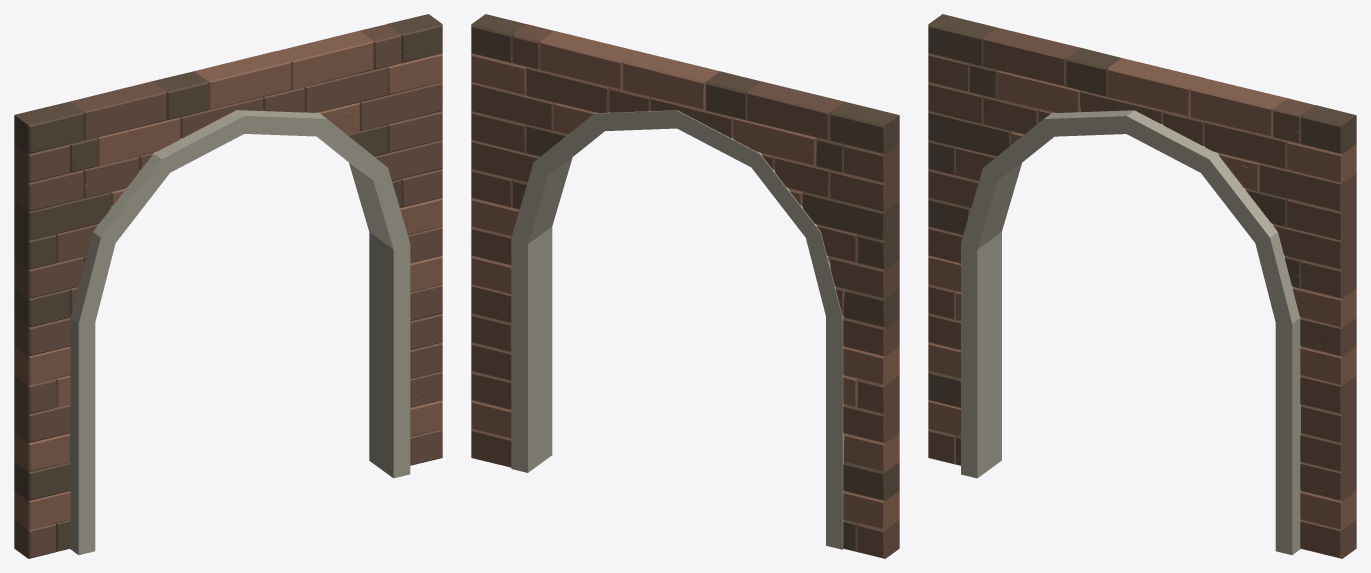
File: victorian_wall_brick_1_arch.fbx
The picture shows the model from 3 angles, left to right: view 1: azimuth 30°, elevation 25°; view 2: azimuth 150°, elevation 25°; view 3: azimuth 330°, elevation 25°; orthographic projection.
Visible parts, largest first — view 1: Cube.262; view 2: Cube.262; view 3: Cube.262.
Boxes of the visible parts, <box> form: Cube.262: <box>14,14,442,558</box>; Cube.262: <box>471,14,899,558</box>; Cube.262: <box>928,14,1356,558</box>.
Size of the model in its own units: 300 by 300 by 30.61.
